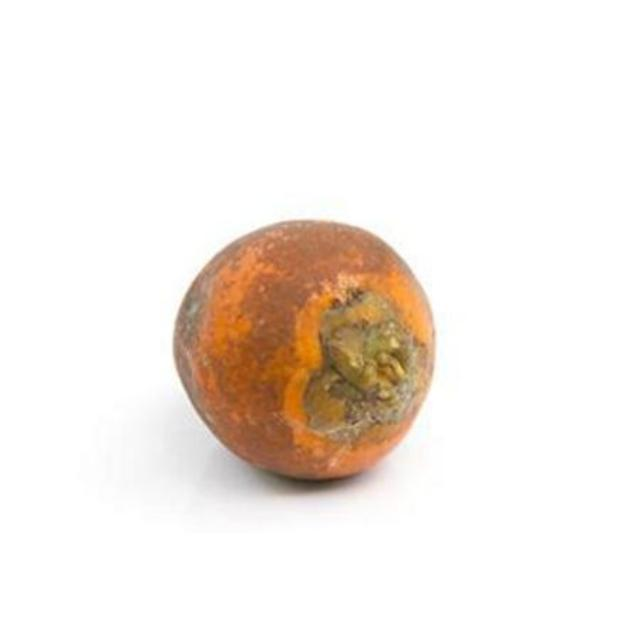damaged: (172, 221, 437, 482)
